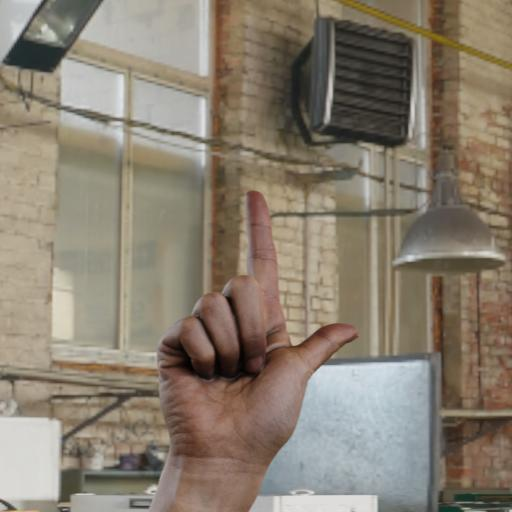L: (157, 187, 362, 459)
